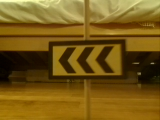left: (49, 42, 126, 77)
